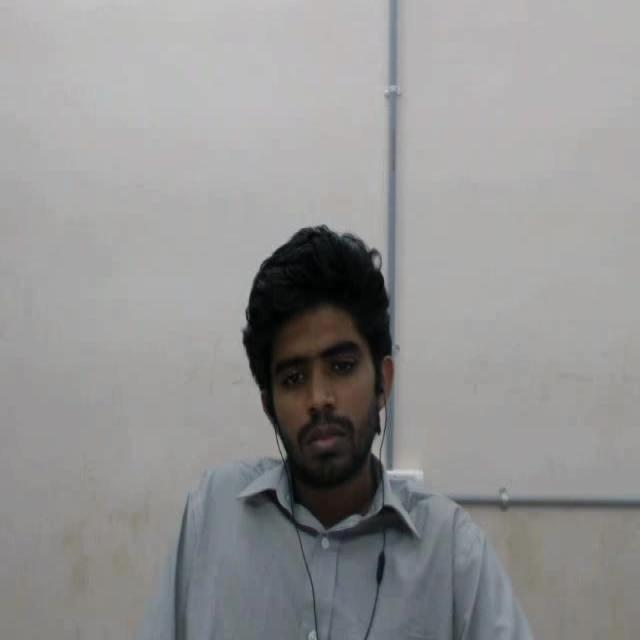Engaged: (220, 201, 450, 532)
